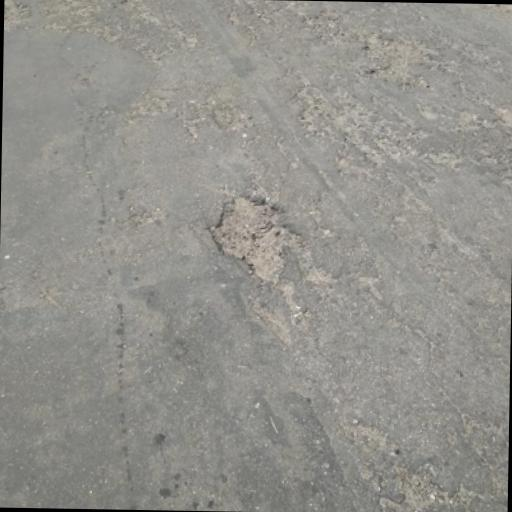pothole: (212, 194, 307, 284), (362, 30, 428, 89)
